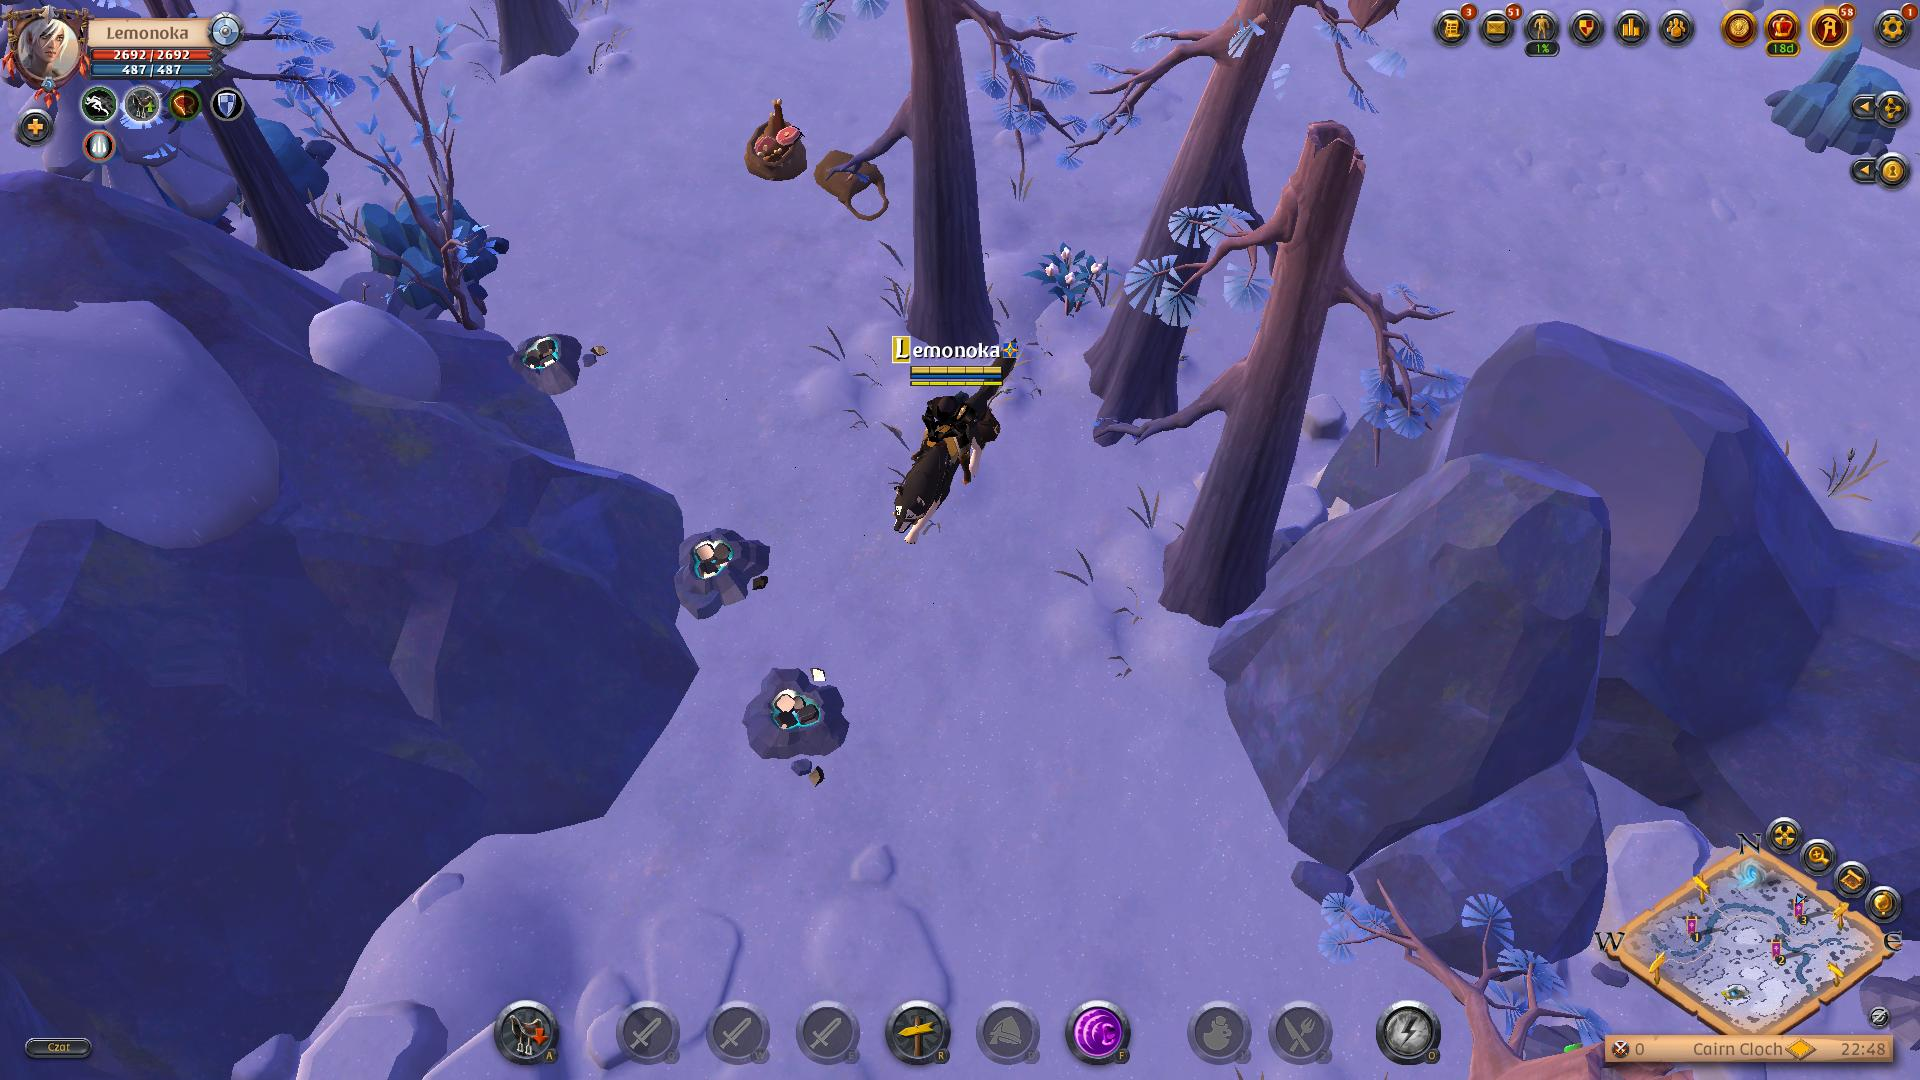fiber tier 4: (1036, 236, 1113, 318)
